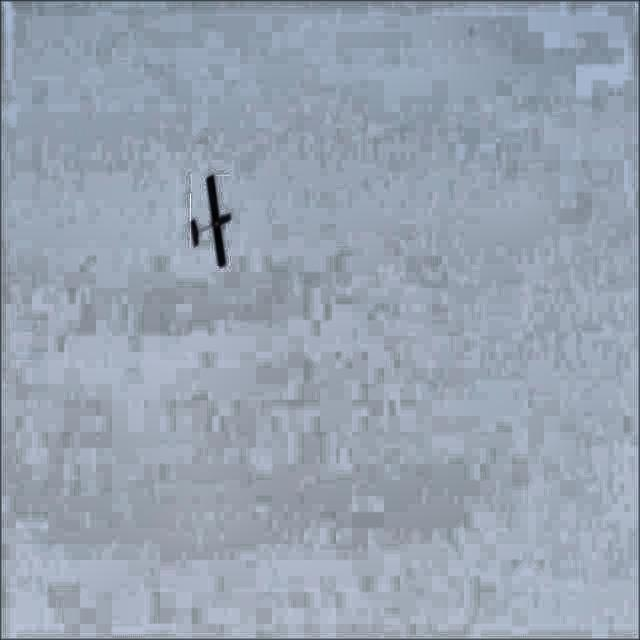iha: (191, 208, 243, 239)
